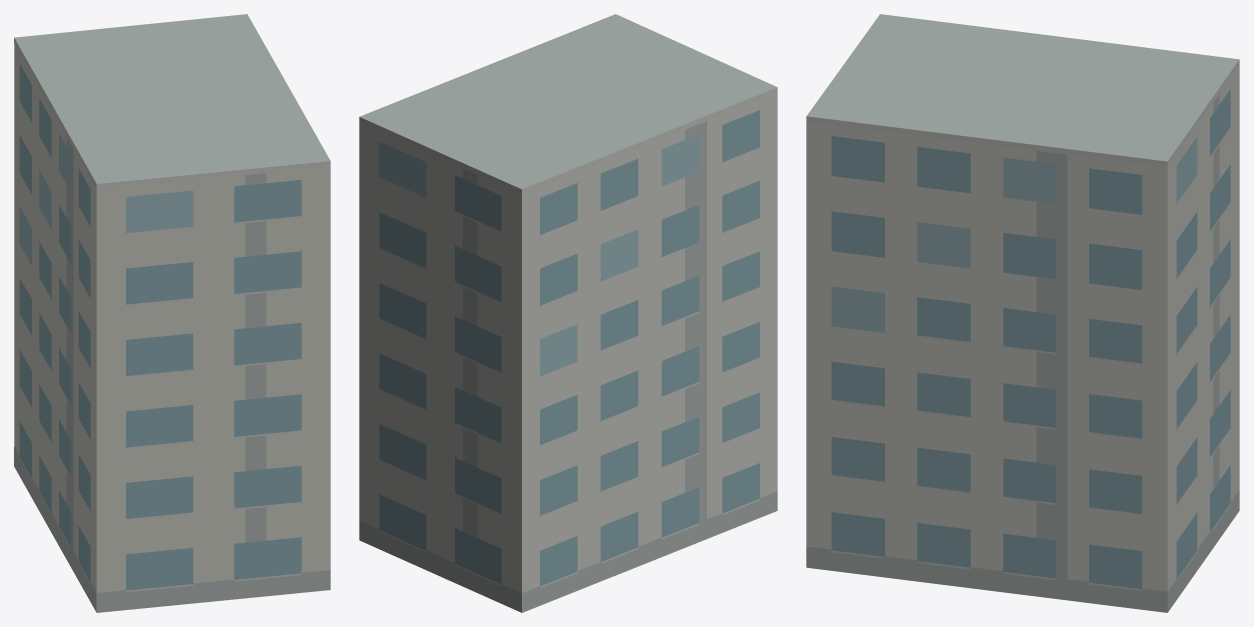
File: survey-upis-32873385.glb
The picture shows the model from 3 angles, left to right: view 1: azimuth 30°, elevation 25°; view 2: azimuth 150°, elevation 25°; view 3: azimuth 270°, elevation 25°; orthographic projection. The views are drawn at different scales.
Parts seen in each view (by area): view 1: survey-upis-32873385.tmp; view 2: survey-upis-32873385.tmp; view 3: survey-upis-32873385.tmp.
Part boxes in pixels (box(x1,y1,x2,y2)): survey-upis-32873385.tmp: box(14, 14, 330, 612); survey-upis-32873385.tmp: box(359, 14, 777, 612); survey-upis-32873385.tmp: box(806, 14, 1239, 612).
Bounding box in the file's own units: 13.15 × 18.75 × 16.31.
